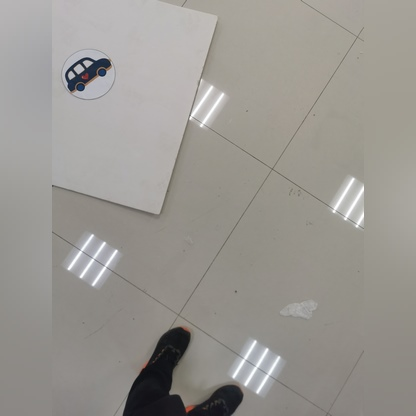car: (59, 29, 115, 100)
